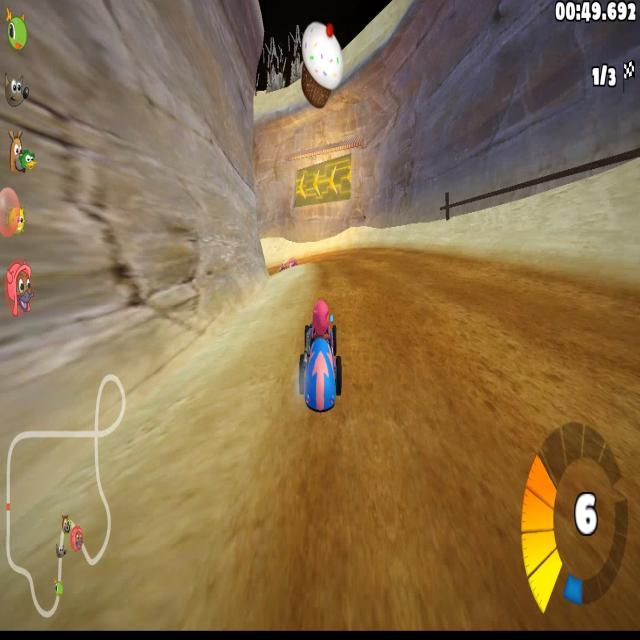player_kart: (297, 298, 346, 409)
track: (300, 408, 640, 640), (346, 304, 640, 435), (335, 252, 517, 297), (519, 271, 640, 305), (270, 255, 332, 269), (315, 264, 336, 294)
